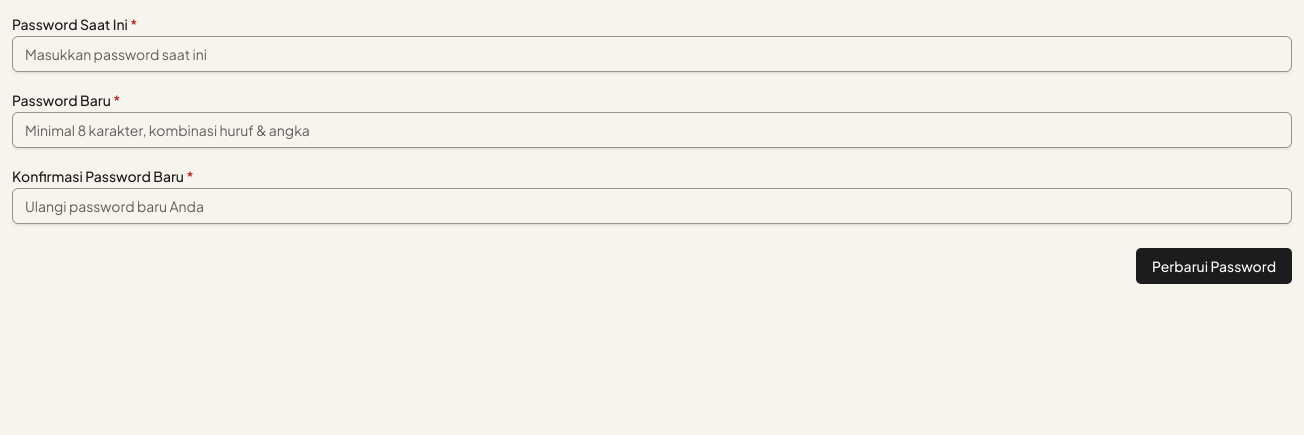
Test: ChangePasswordForm › shows success banner and logout option upon successful password change
Type "CorrectPass123" into the password field labelled "Password Saat Ini *" at (652, 54), box [12,36,1292,72]
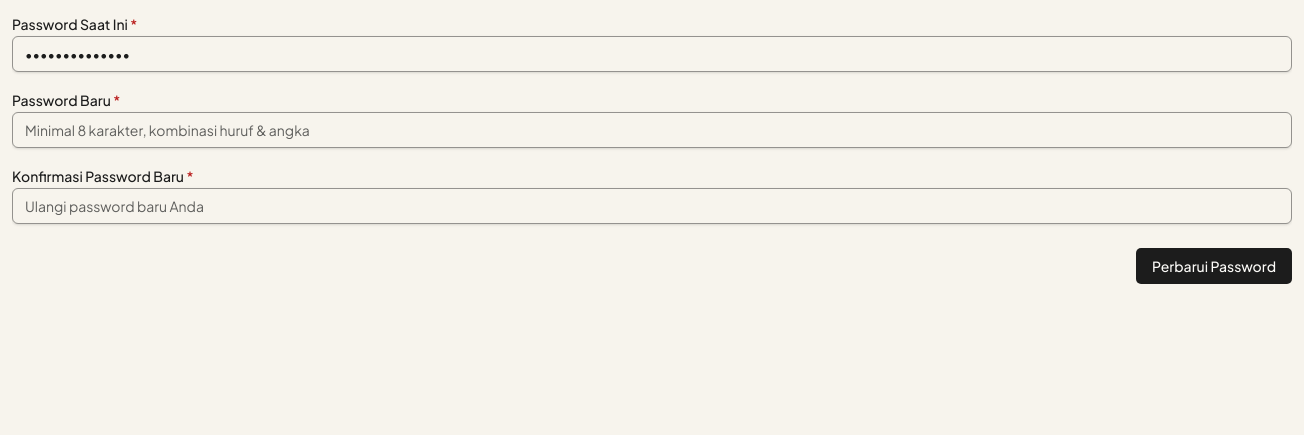
Type "NewSecret123" into the password field labelled "Password Baru *" at (652, 130), box [12,112,1292,148]
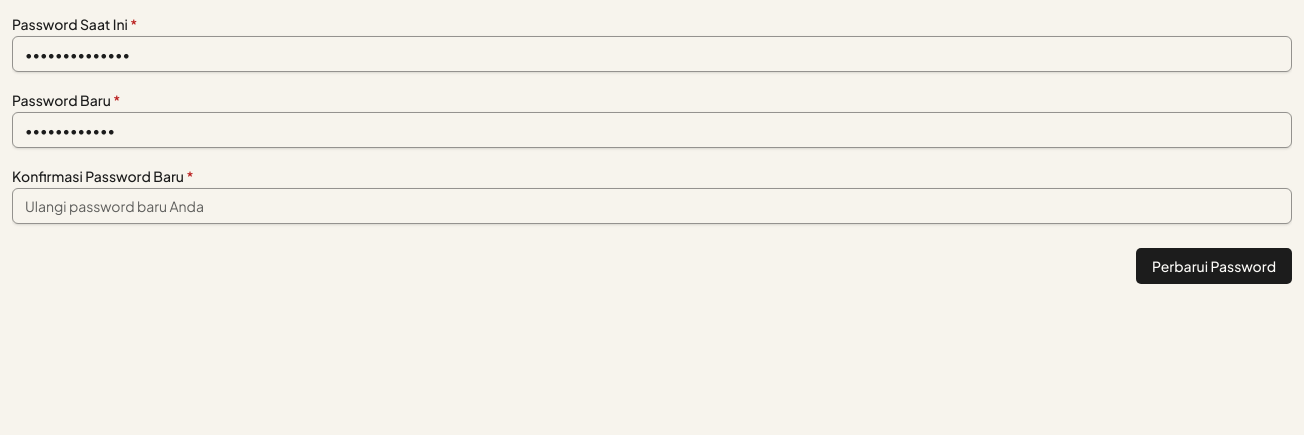
Type "NewSecret123" into the password field labelled "Konfirmasi Password Baru *" at (652, 206), box [12,188,1292,224]
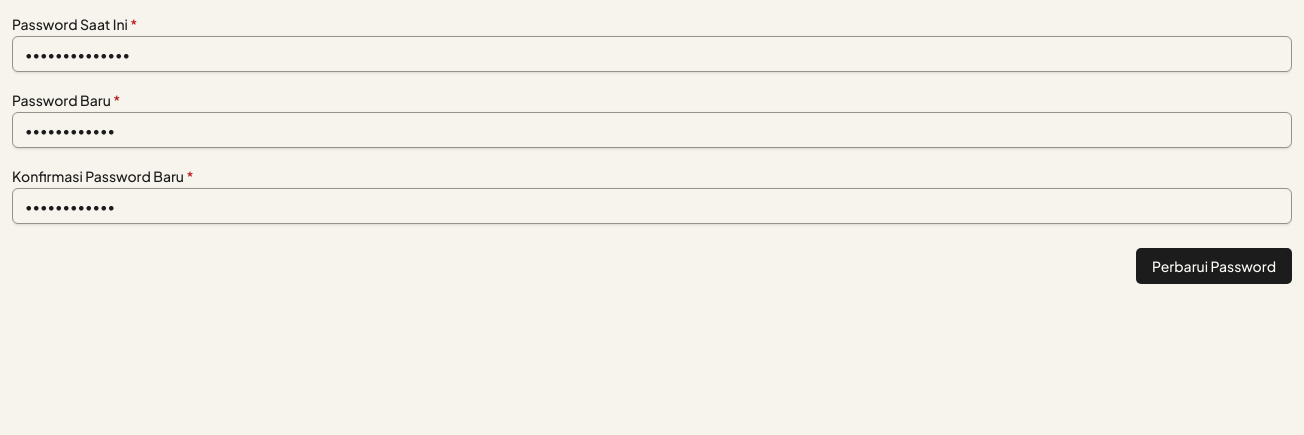
Click the button "Perbarui Password" at (1214, 266), box [1136,248,1292,284]
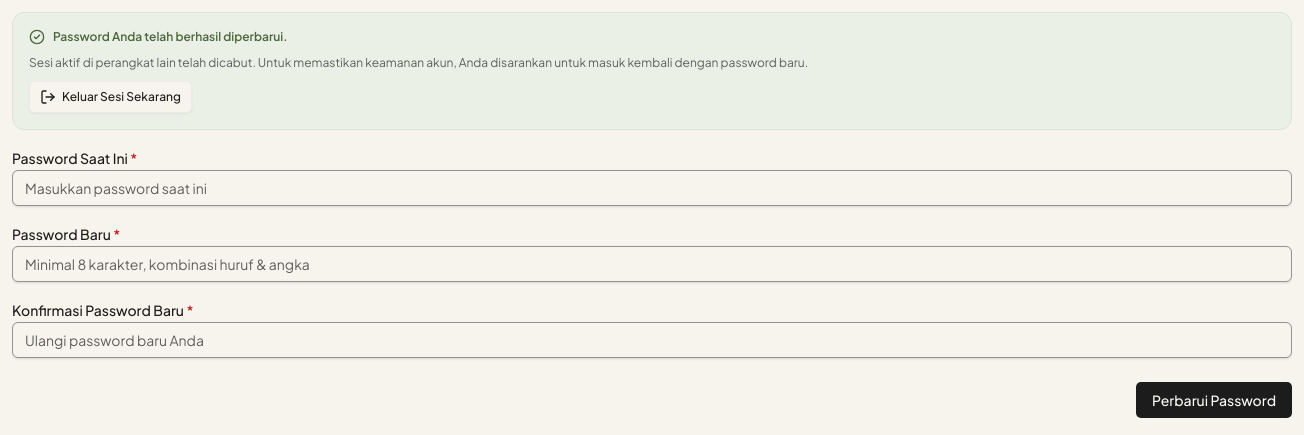
Check: the text "Password Anda telah berhasil diperbarui." is shown, box [53,29,287,45]
Check: the button "Keluar Sesi Sekarang" is shown, box [29,81,192,113]
